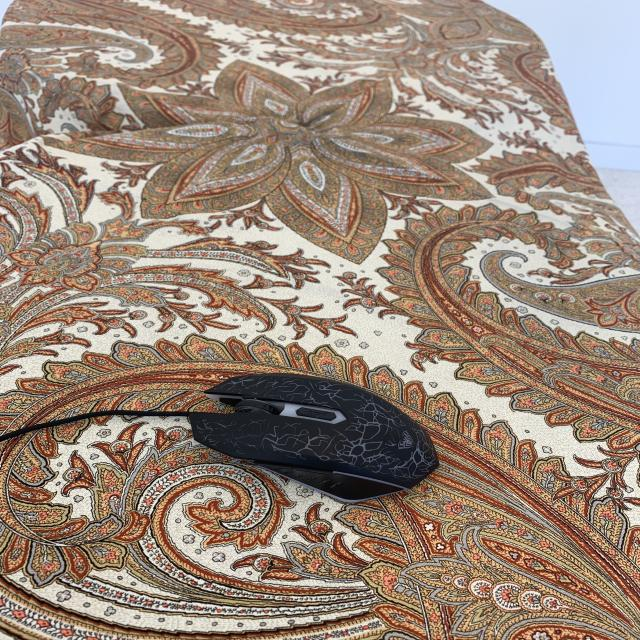Mouse: (182, 367, 462, 506)
